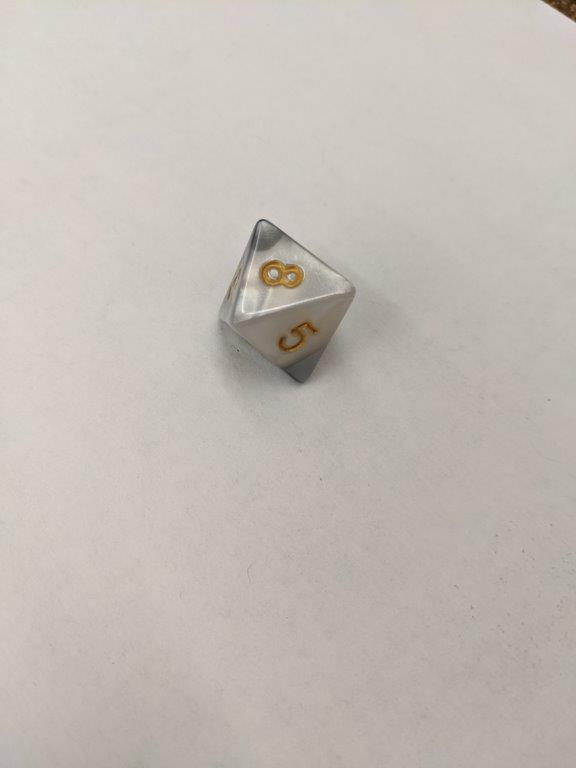d8-8: (219, 215, 357, 387)
